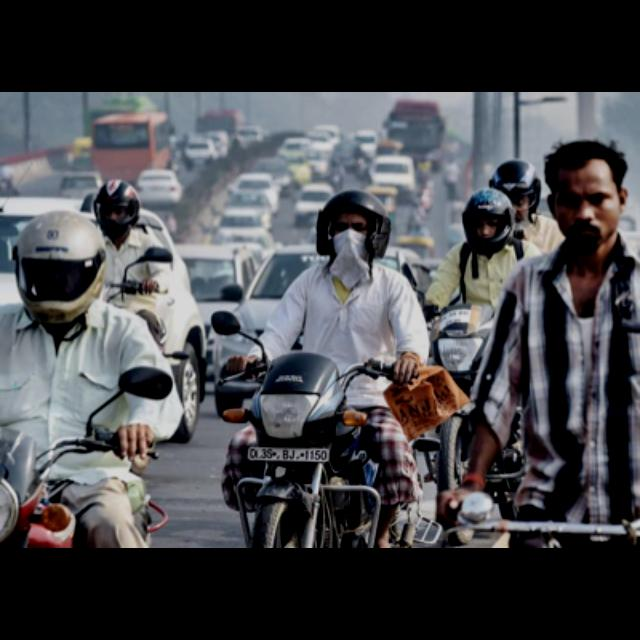With Helmet: (11, 212, 105, 326), (314, 185, 392, 265), (461, 183, 515, 250), (91, 179, 139, 233)
